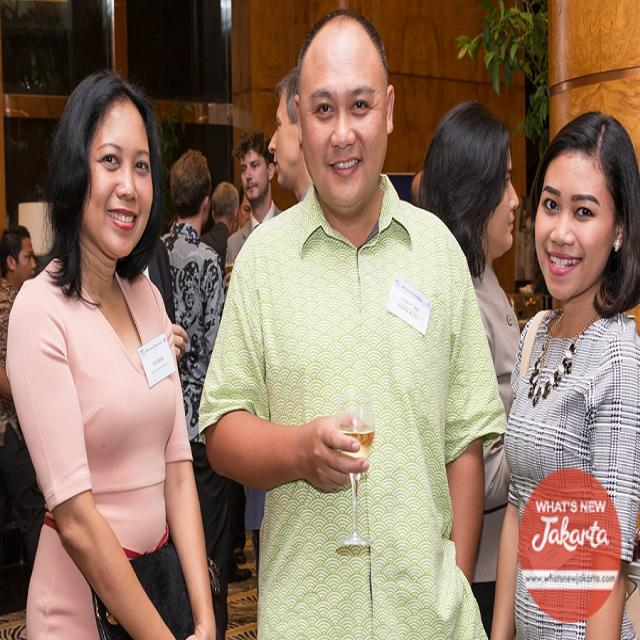body: (194, 3, 509, 639), (3, 70, 218, 639), (488, 107, 639, 639), (417, 99, 521, 639), (158, 147, 230, 640), (0, 222, 48, 571), (223, 132, 284, 267), (266, 65, 314, 206), (198, 180, 242, 278), (408, 164, 431, 210), (234, 188, 255, 230)
